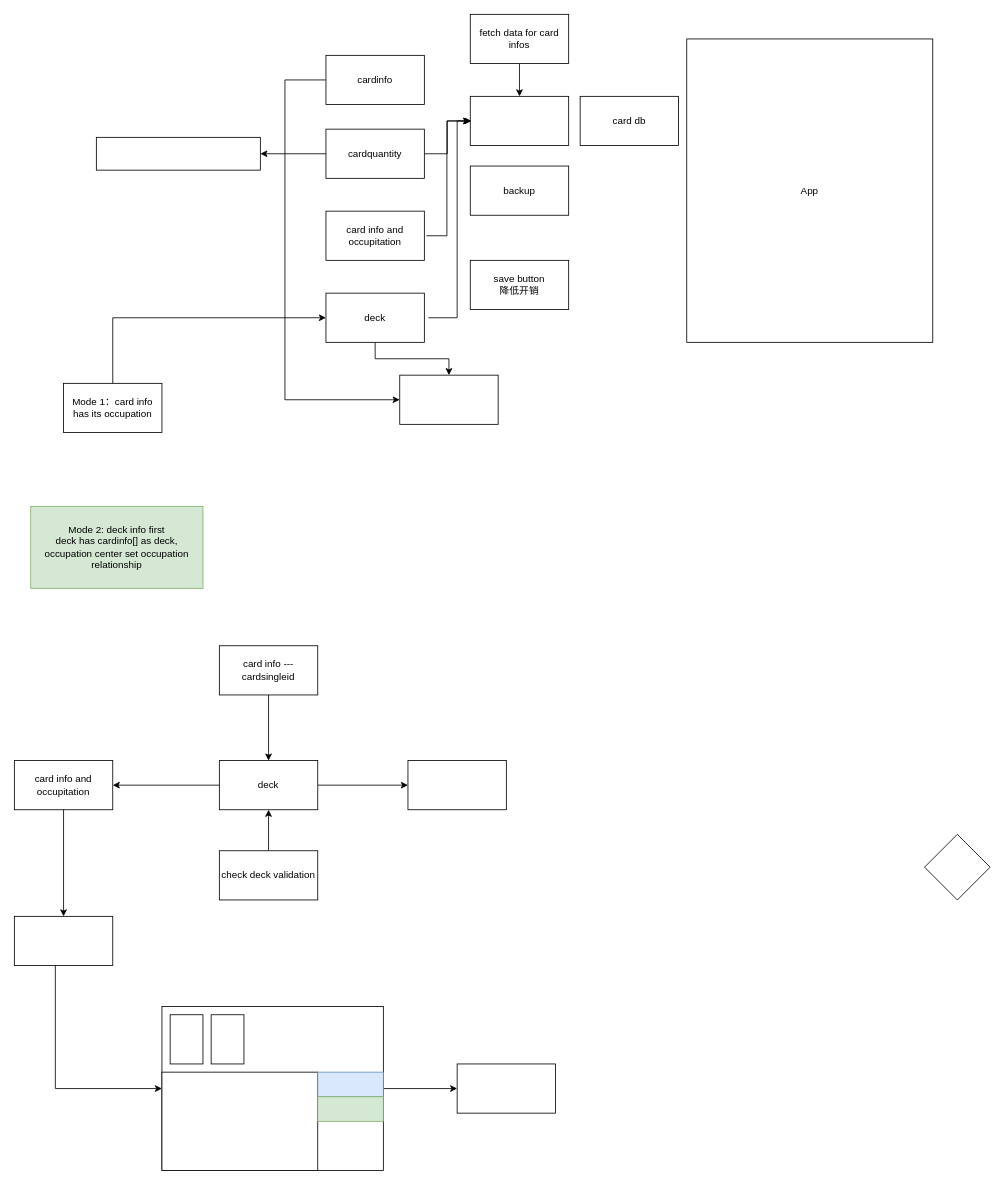
Some shapes in this 1005 by 1185 pixel diagram are drawn without their labels. The centre of each missing label's shape, as x and y in pixels:
"list" belongs at (448,399).
"list<cardid> list<cardsingled>" belongs at (456,785).
"mybank.db" belongs at (519,121).
"save button" belongs at (63,941).
"set card id and total quantity" belongs at (178,153).
"subddata filter utils data select" belongs at (506,1088).
"update" belongs at (957,867).
